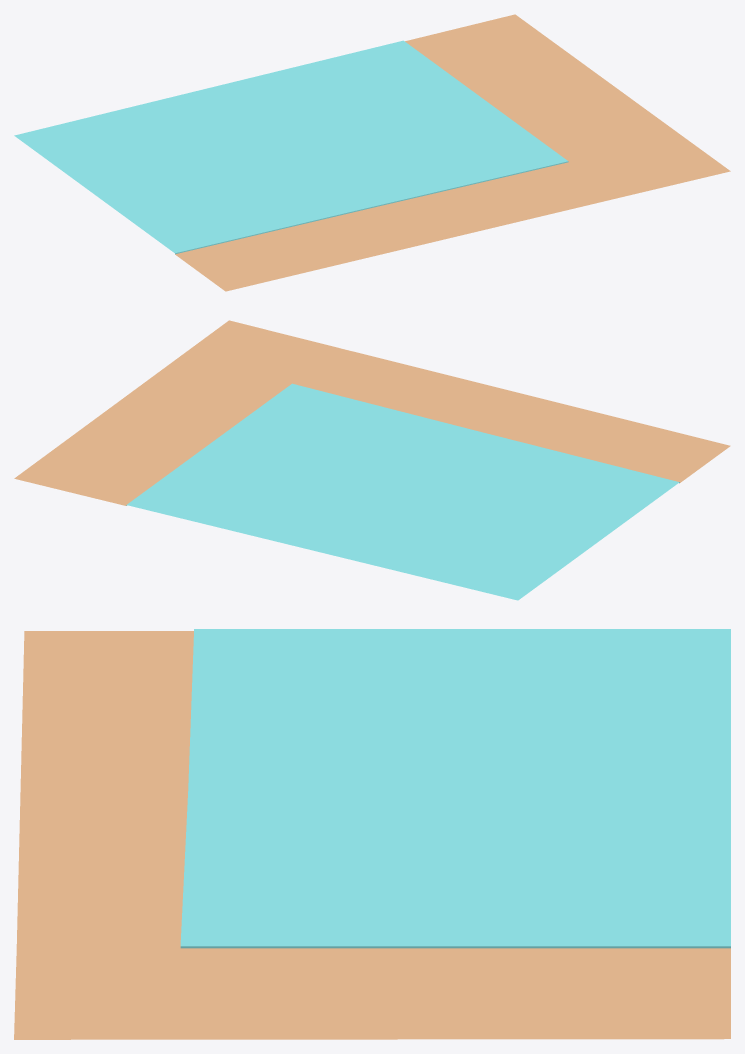
File: sol7.FBX
3 views of the same model, one above another, from view 1: azimuth 30°, elevation 25°; view 2: azimuth 150°, elevation 25°; view 3: azimuth 270°, elevation 25° (orthographic). The views are drawn at different scales.
Visible parts, largest first — view 1: Object001; view 2: Object001; view 3: Object001.
Boxes of the visible parts, bbox=[...] form: Object001: bbox=[14, 14, 730, 291]; Object001: bbox=[14, 320, 730, 600]; Object001: bbox=[14, 629, 730, 1039].
Size of the model in its own units: 231 by 0.4686 by 171.
